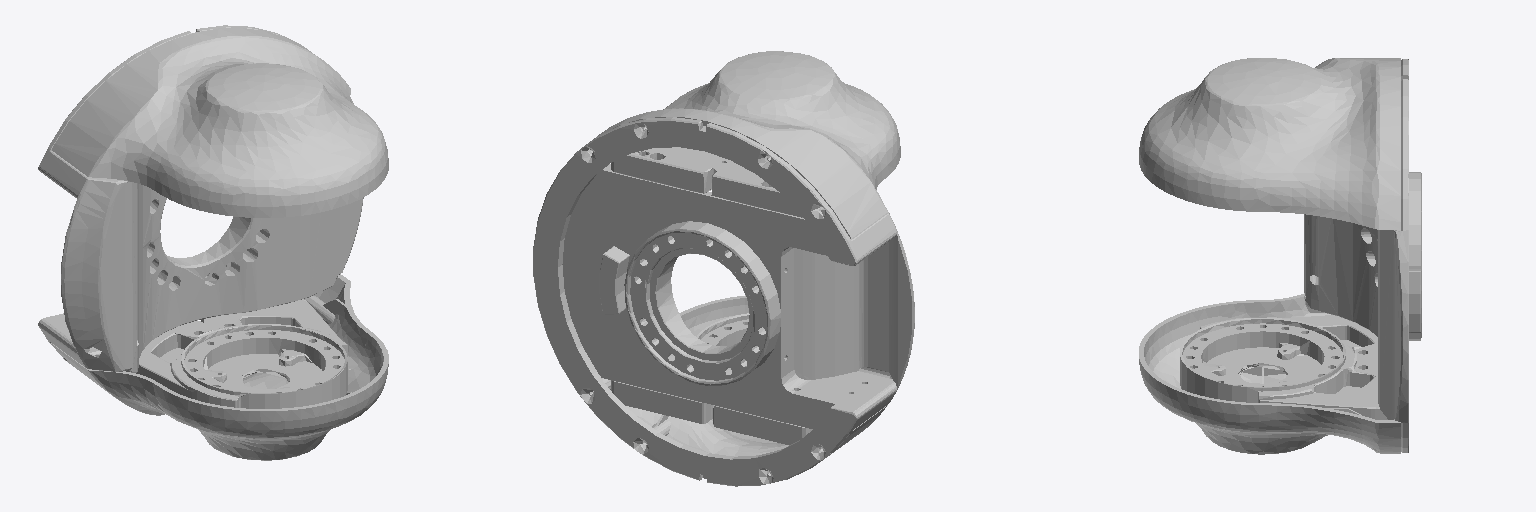
Rendered from waist_yaw_link.obj.
3 views of the same model, side by side, from view 1: azimuth 30°, elevation 25°; view 2: azimuth 150°, elevation 25°; view 3: azimuth 270°, elevation 25° (orthographic).
Visible parts, largest first — view 1: waist_yaw_link; view 2: waist_yaw_link; view 3: waist_yaw_link.
Part boxes in pixels (x1,y1,x2,y2): waist_yaw_link: (38,25,388,460); waist_yaw_link: (533,51,914,486); waist_yaw_link: (1139,58,1421,454).
Size of the model in its own units: 0.1468 by 0.1477 by 0.1053.